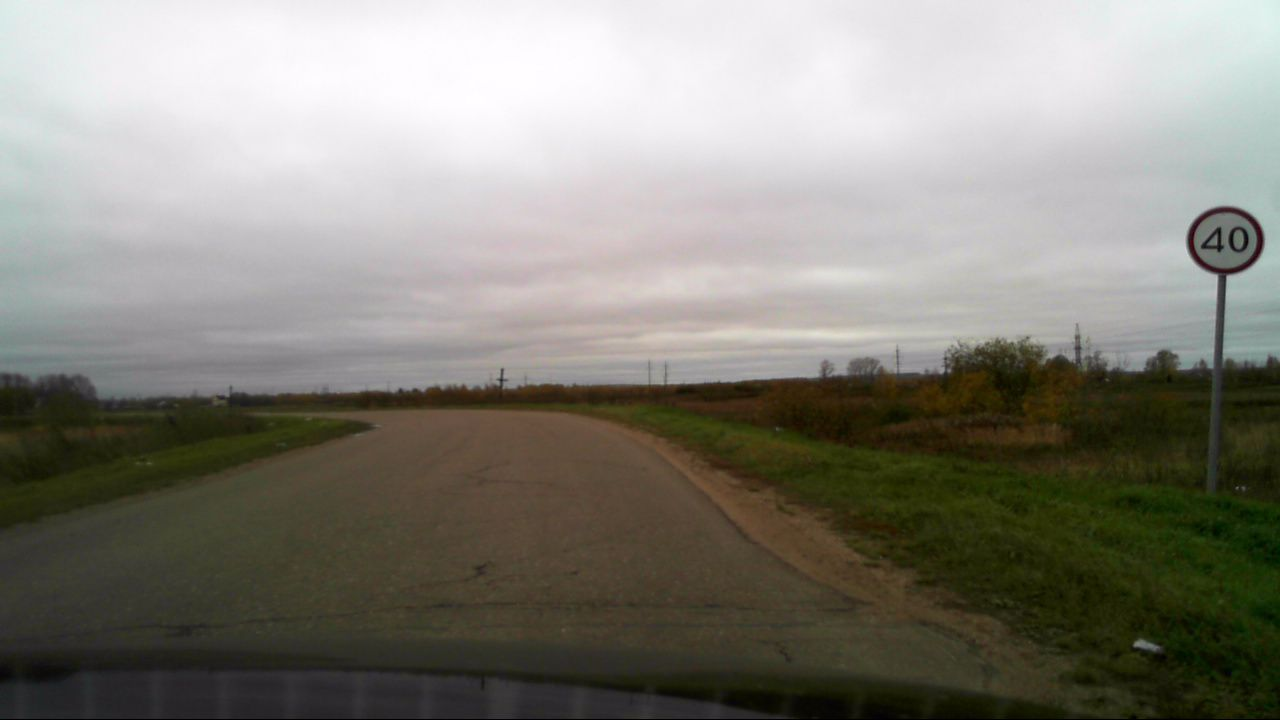speed_warning_40: (1184, 206, 1265, 277)
